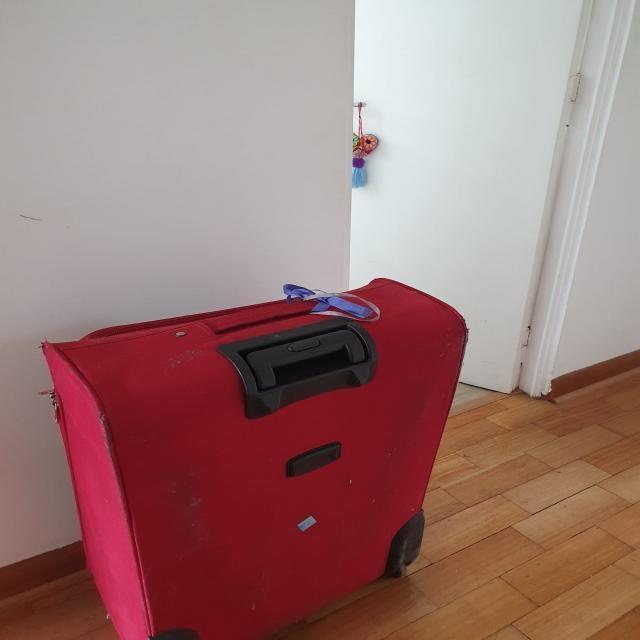Suitcase: (42, 276, 472, 640)
